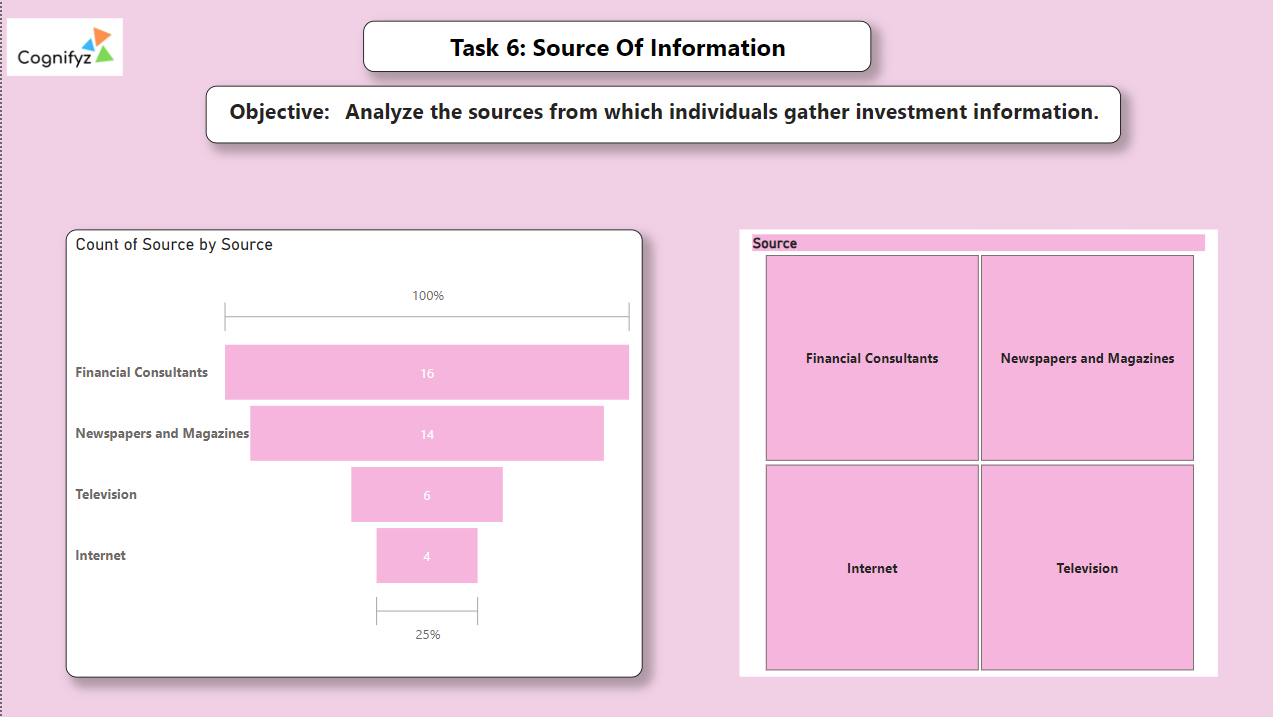

The page's visual inventory and layout, read from the dashboard file:
{"tool":"powerbi","page":{"name":"Task 6","canvas":[1280,720],"ordinal":5},"visuals":[{"type":"textbox","box":[360.9,24.3,507.7,51.6],"z":0},{"type":"textbox","box":[204.3,88.5,915.3,57.4],"z":1000},{"type":"funnel","fields":{"Y":["CountNonNull(Data_set 2.Source)"],"Category":["Data_set 2.Source"]},"box":[63.2,232.5,576.8,448.4],"z":2000},{"type":"slicer","fields":{"Values":["Data_set 2.Source"]},"box":[737.3,232.5,478.5,447.4],"z":3000}]}

Visuals, with their boxes in screenshot pixels (x1, y1, x2, y2), scaled from the page's 1280x720 canvas onto the 1273x717 screenshot:
textbox: pyautogui.locateOnScreen(359, 24, 864, 76)
textbox: pyautogui.locateOnScreen(203, 88, 1113, 145)
funnel - CountNonNull(Data_set 2.Source) x Data_set 2.Source: pyautogui.locateOnScreen(63, 232, 636, 678)
slicer - Data_set 2.Source: pyautogui.locateOnScreen(733, 232, 1209, 677)
